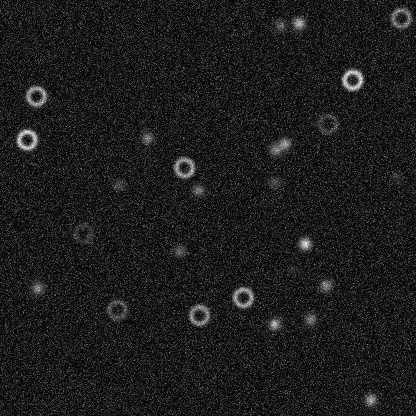Ring: (340, 67, 364, 91), (230, 285, 254, 309), (315, 111, 339, 135), (187, 302, 211, 326), (14, 127, 38, 151), (23, 84, 47, 108), (71, 220, 95, 244), (104, 297, 128, 321), (172, 155, 196, 179), (388, 5, 412, 29)
Spot: (317, 277, 333, 293), (290, 15, 306, 31), (190, 181, 206, 197), (267, 141, 283, 157), (266, 315, 282, 331), (171, 242, 187, 258), (302, 311, 318, 327), (284, 261, 300, 277), (276, 135, 292, 151), (272, 17, 288, 33), (296, 235, 312, 251), (110, 177, 126, 193), (388, 169, 404, 185), (362, 391, 378, 407), (29, 280, 45, 296), (139, 129, 155, 145), (266, 174, 282, 190)
